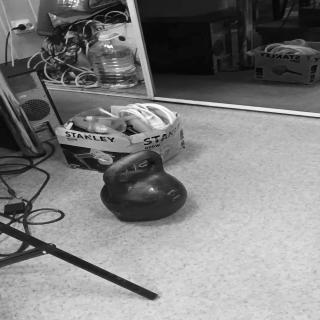kettlebell: (100, 150, 190, 224)
